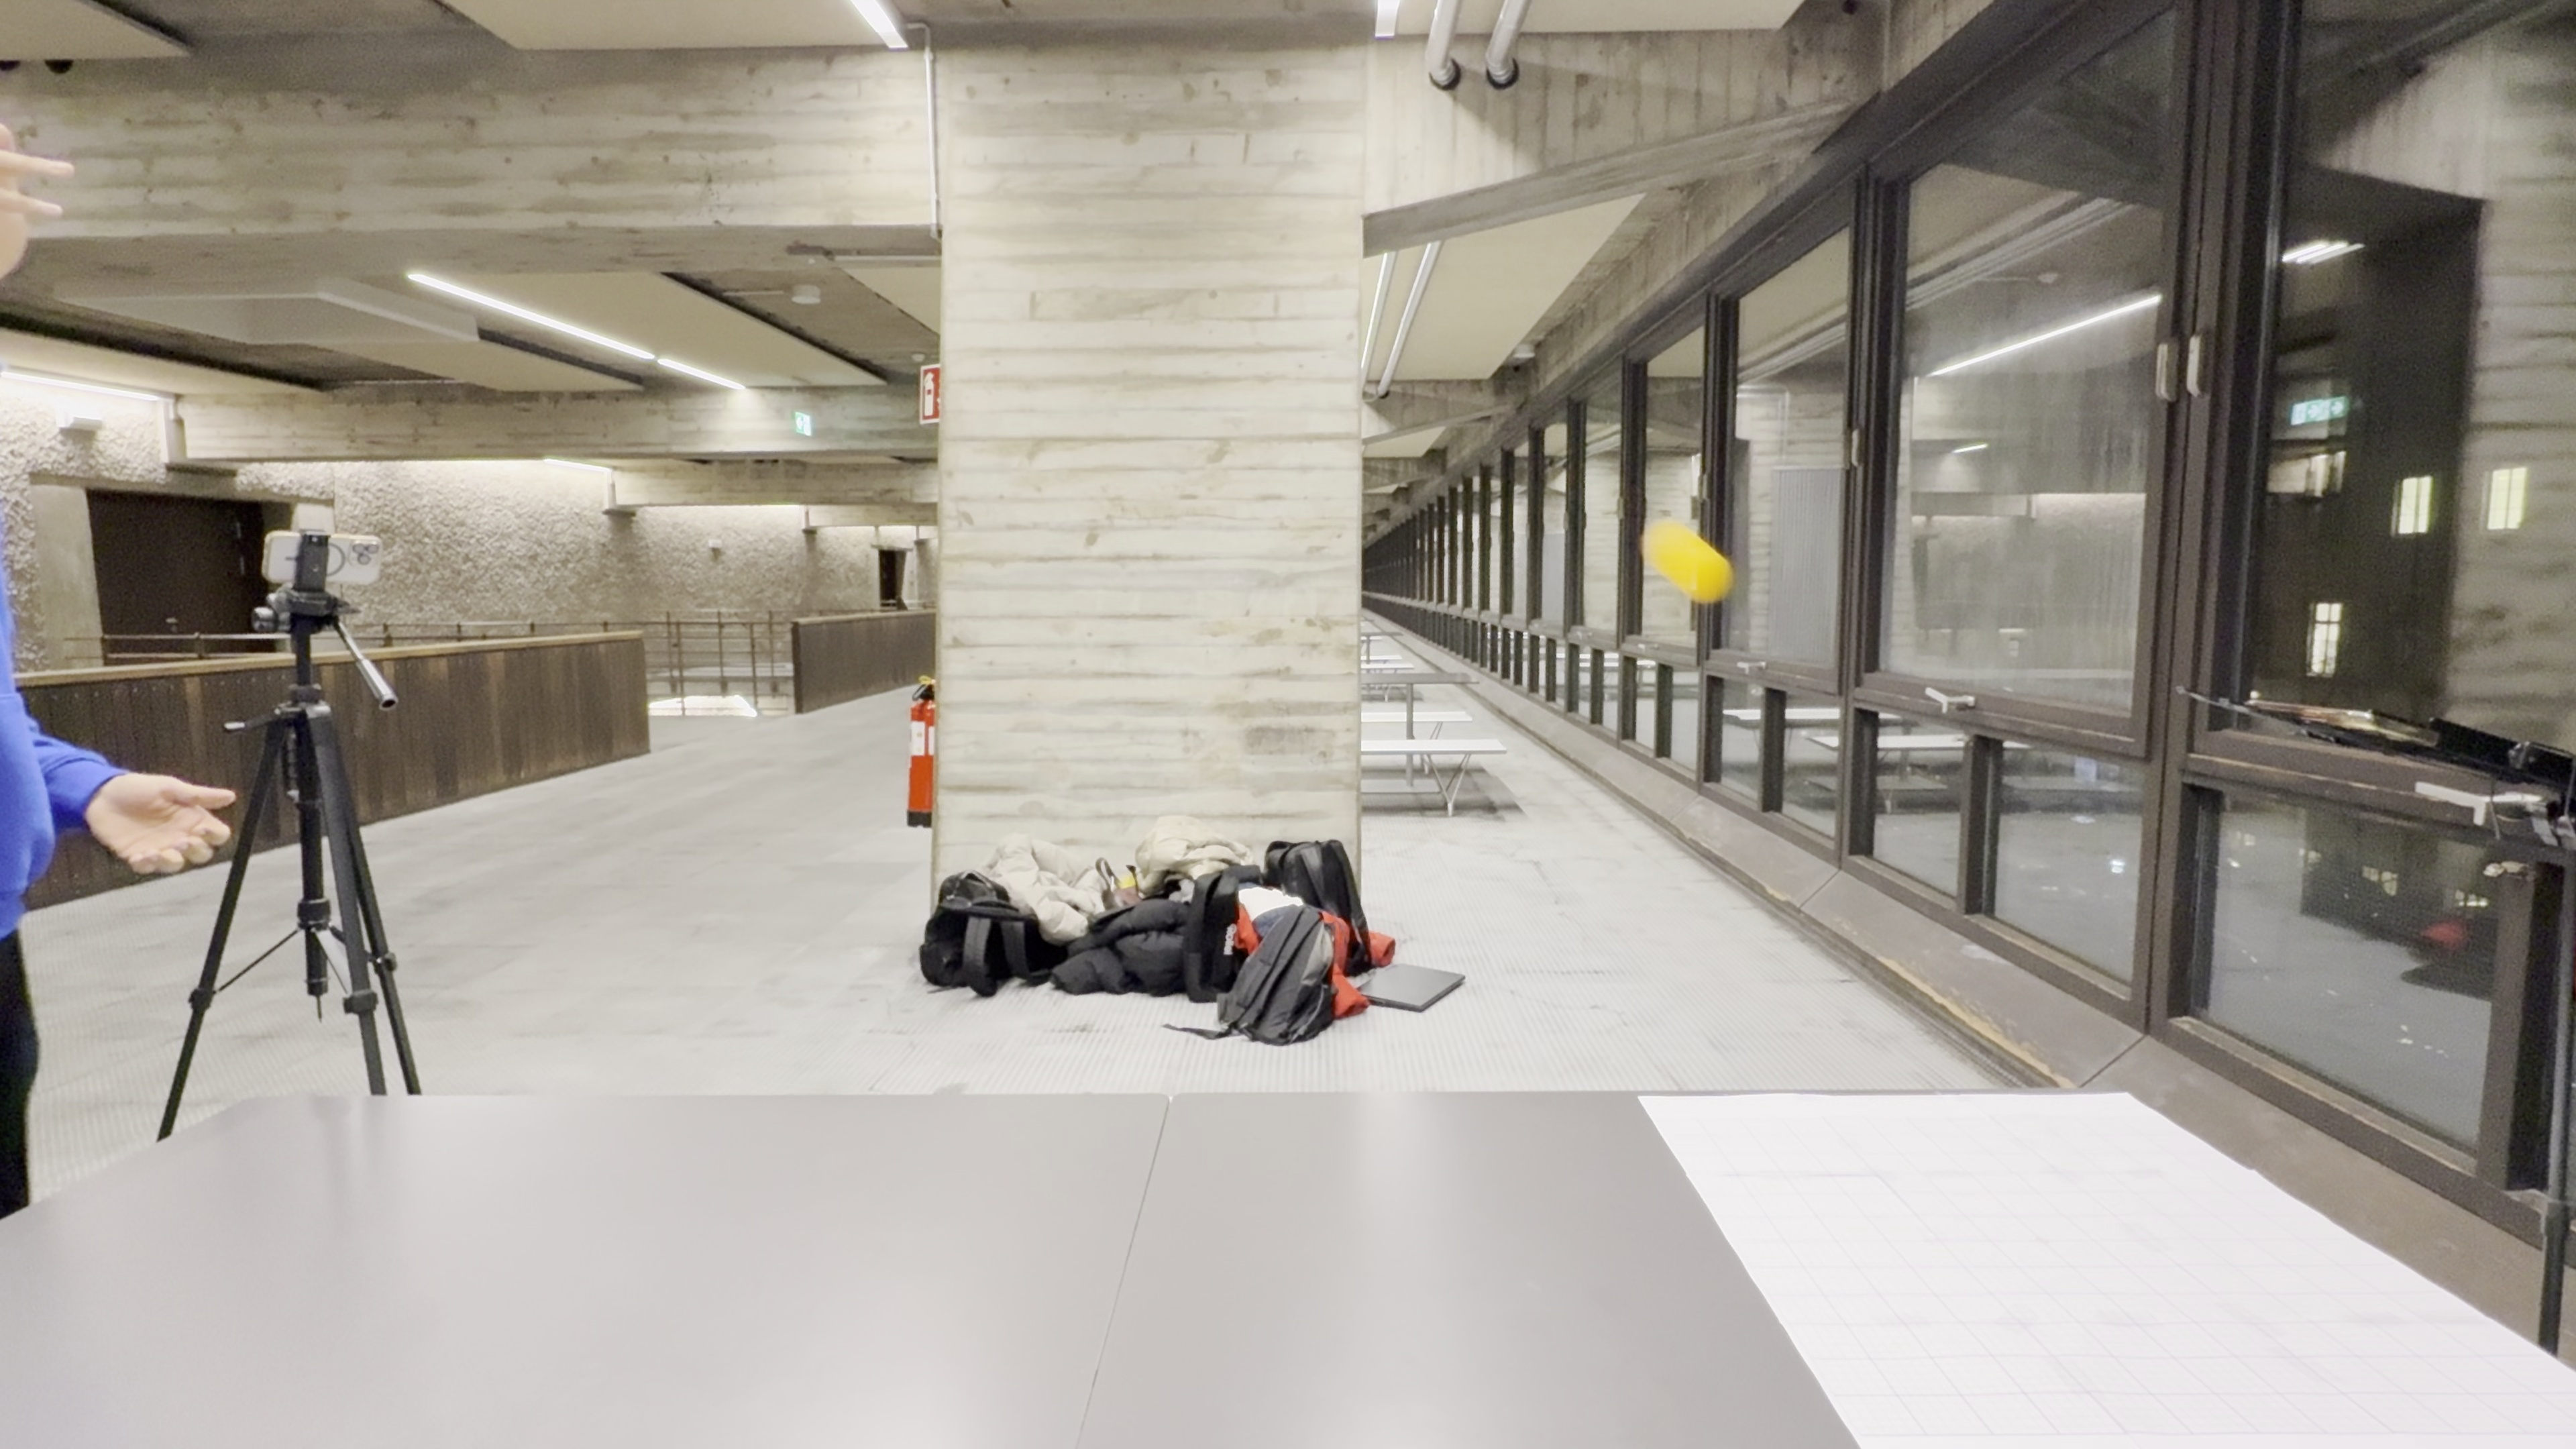ping-pong ball: (1626, 510, 1743, 612)
